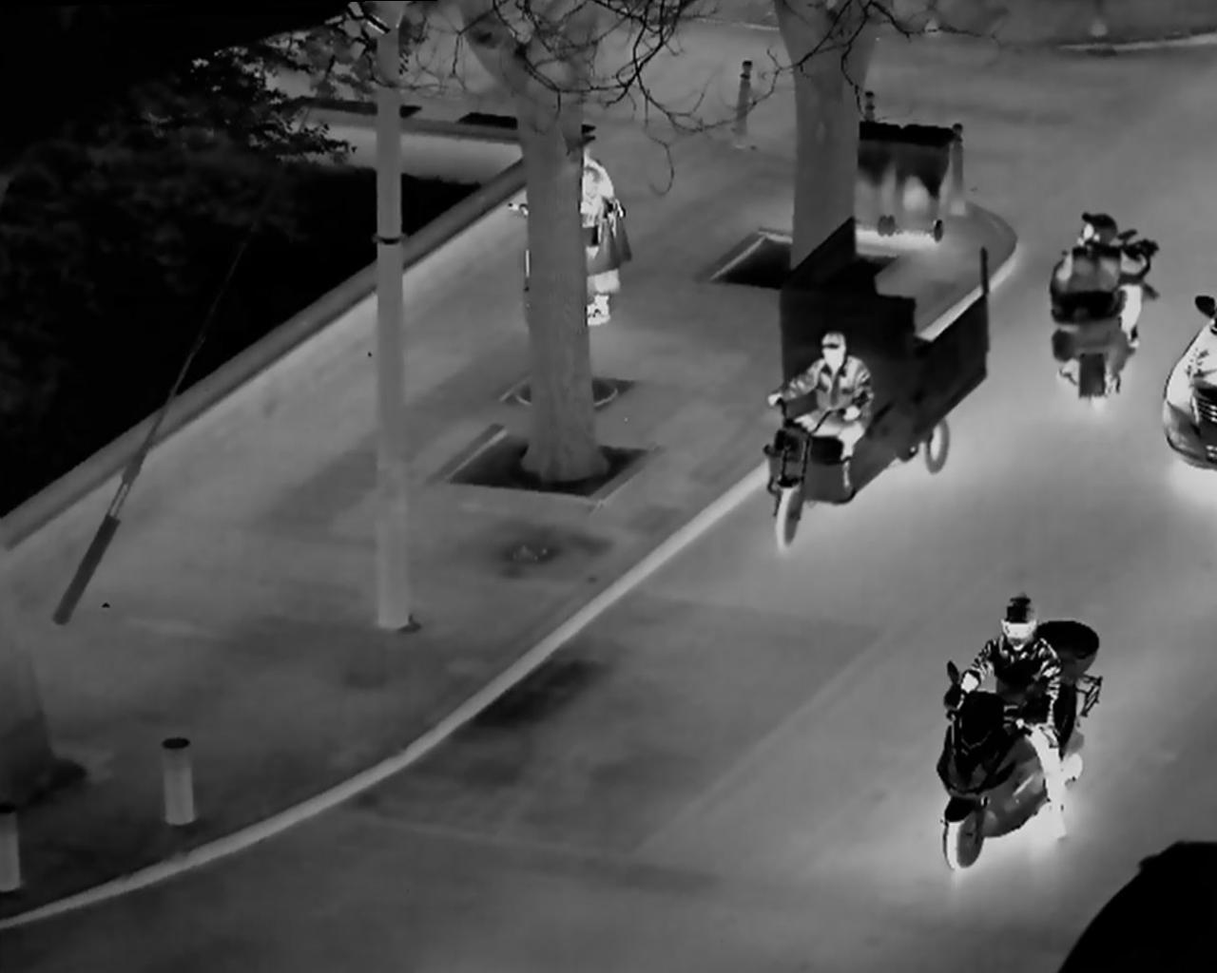person: (922, 560, 1096, 878), (1032, 196, 1163, 426), (764, 325, 868, 491), (571, 137, 634, 331)
